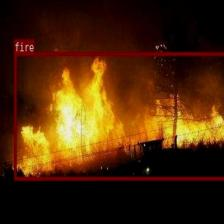fire: (13, 52, 224, 180)
